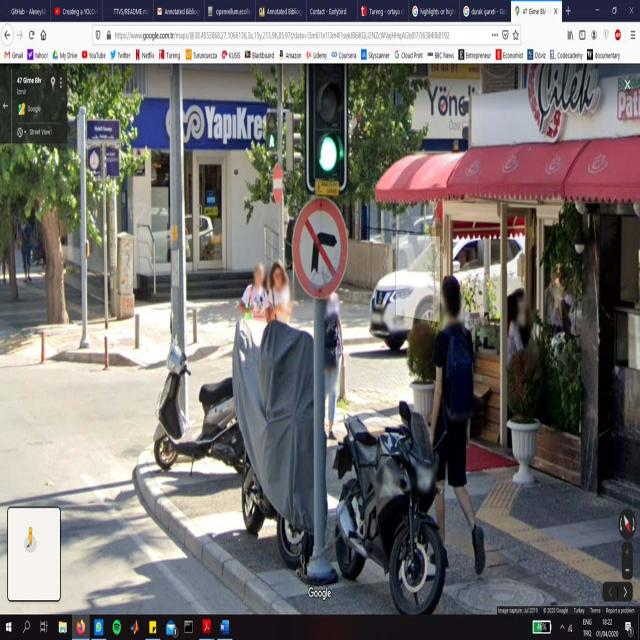girisyok: (271, 164, 283, 203)
sagadonulmez: (295, 200, 345, 292)
yesil: (307, 64, 342, 184)
